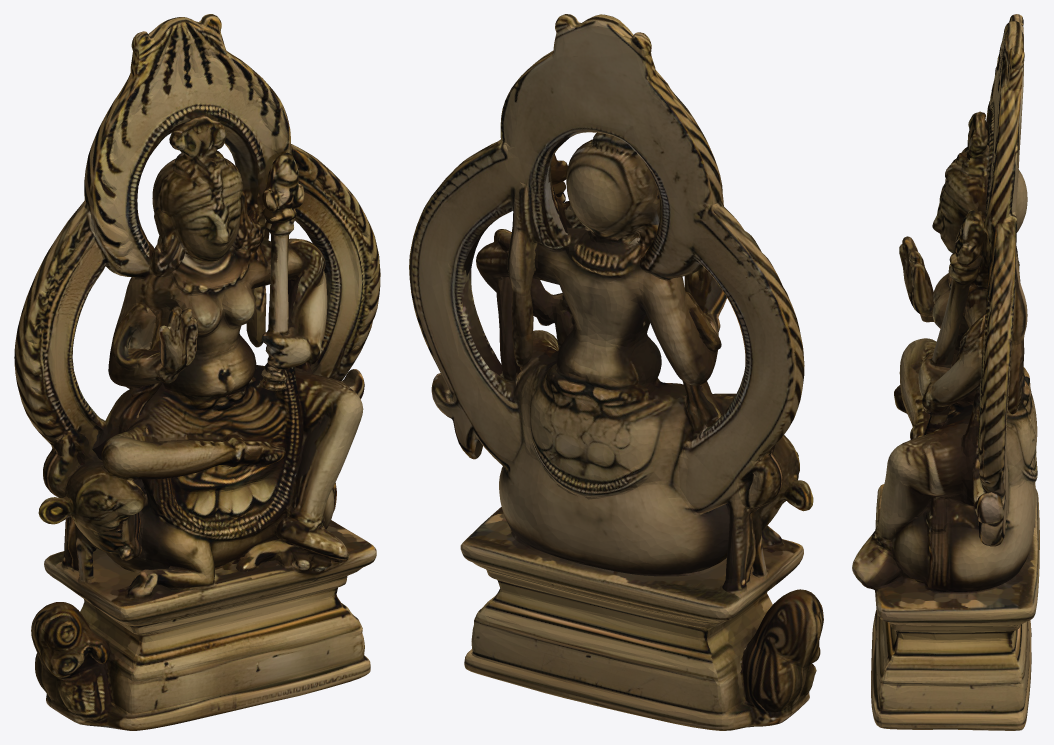
The picture shows the model from 3 angles, left to right: view 1: azimuth 30°, elevation 25°; view 2: azimuth 150°, elevation 25°; view 3: azimuth 270°, elevation 25°; orthographic projection. The views are drawn at different scales.
Parts seen in each view (by area): view 1: textured_mesh; view 2: textured_mesh; view 3: textured_mesh.
Boxes of the visible parts, box(x1,y1,x2,y2) form: textured_mesh: box(14, 14, 380, 730); textured_mesh: box(409, 14, 823, 730); textured_mesh: box(852, 14, 1039, 730).
Bounding box in the file's own units: 1.18 × 1.99 × 0.5246.
1 material, 1 textured.
